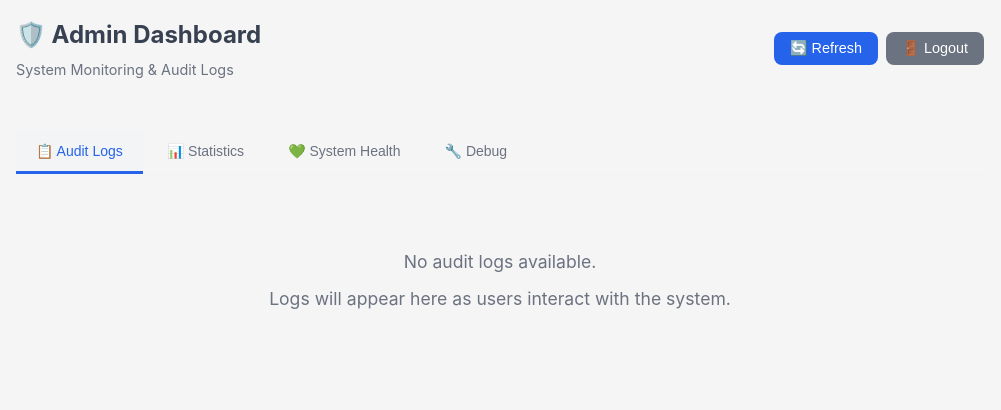
it: AdminPanel › Logout Functionality › logs out and clears data when logout button is clicked
Expected: the heading "🛡️ Admin Dashboard" is shown, top-left (16, 16), bottom-right (261, 54)
Click logout button
Click the button "🚪 Logout".
click(935, 49)  # box top-left (886, 32), bottom-right (984, 65)
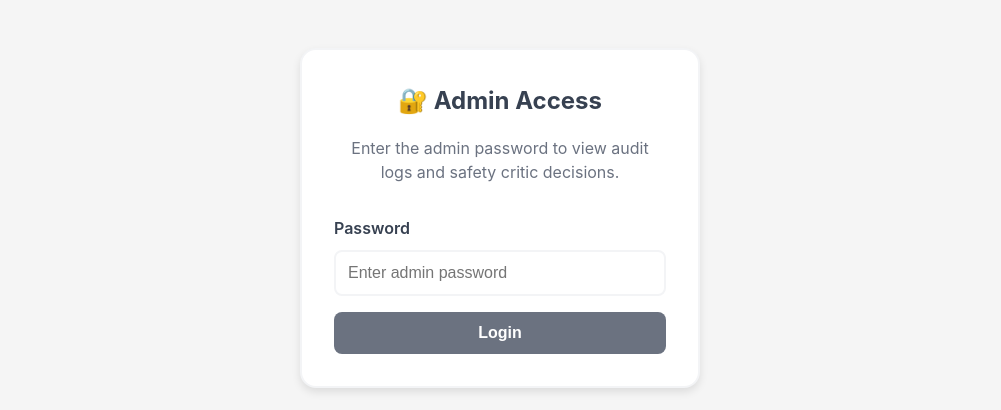
Result: the heading "🔐 Admin Access" is shown at top-left (398, 86), bottom-right (602, 115)
